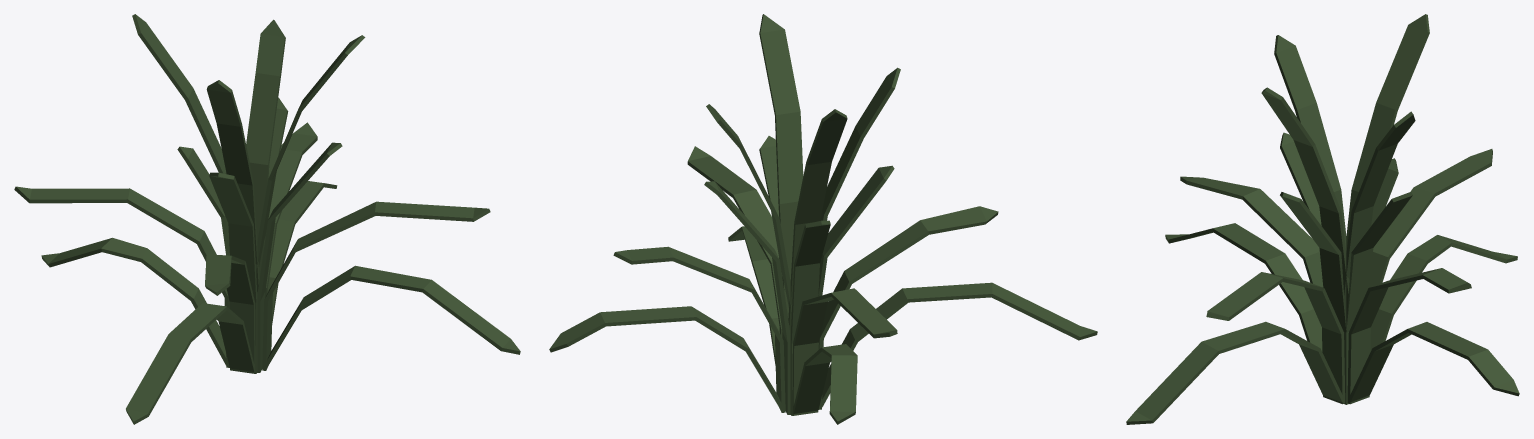
Rendered from plant_3.glb.
3 views of the same model, side by side, from view 1: azimuth 30°, elevation 25°; view 2: azimuth 150°, elevation 25°; view 3: azimuth 270°, elevation 25° (orthographic).
Visible parts, largest first — view 1: Plant_3; view 2: Plant_3; view 3: Plant_3.
Part boxes in pixels (left/top/right/bottom): Plant_3: left=14, top=14, right=520, bottom=424; Plant_3: left=549, top=14, right=1097, bottom=424; Plant_3: left=1126, top=14, right=1519, bottom=424.
Bounding box in the file's own units: 1.09 × 0.9437 × 0.9724.
